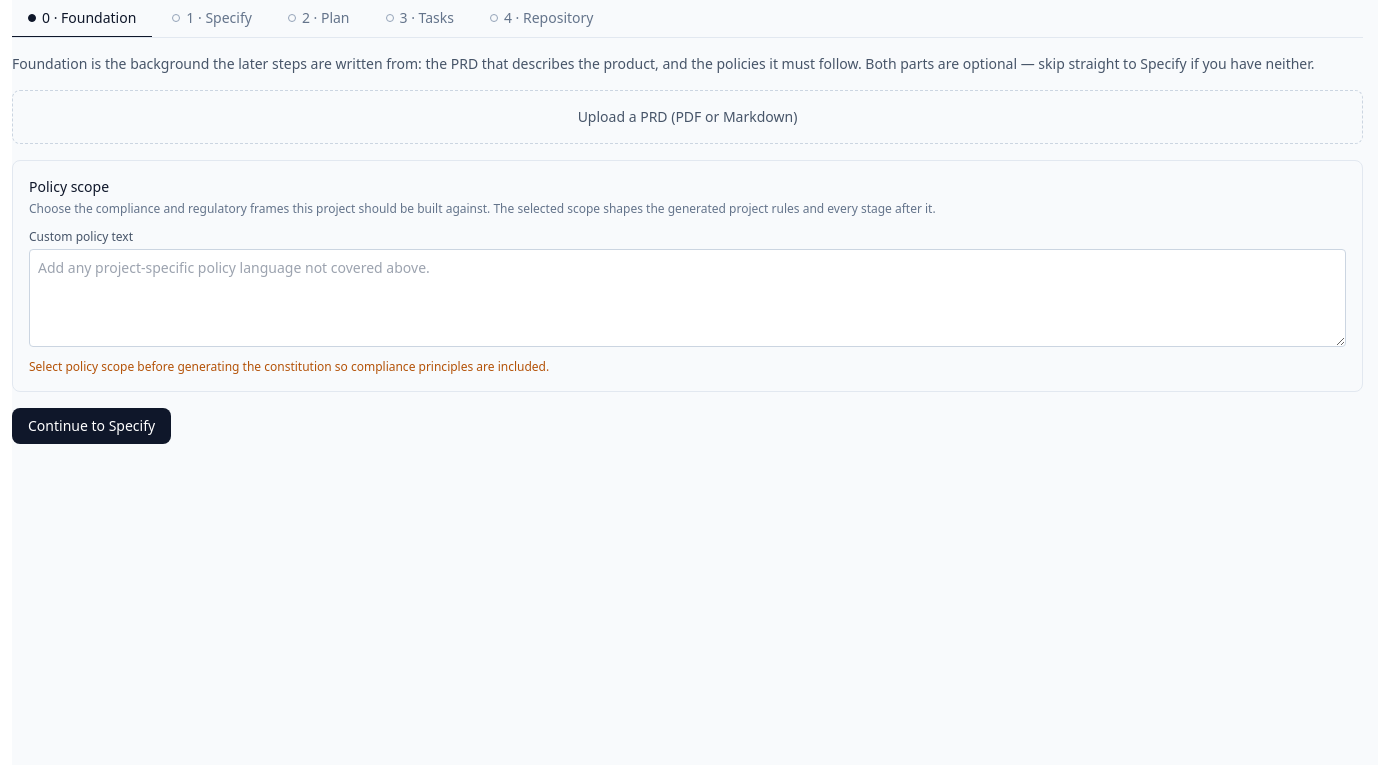
Test: Planner › asks for the specification as a structured business form, not one free-text box
The image size is (1378, 765).
Click the tab "1 · Specify": (212, 19) [156, 0, 268, 38]
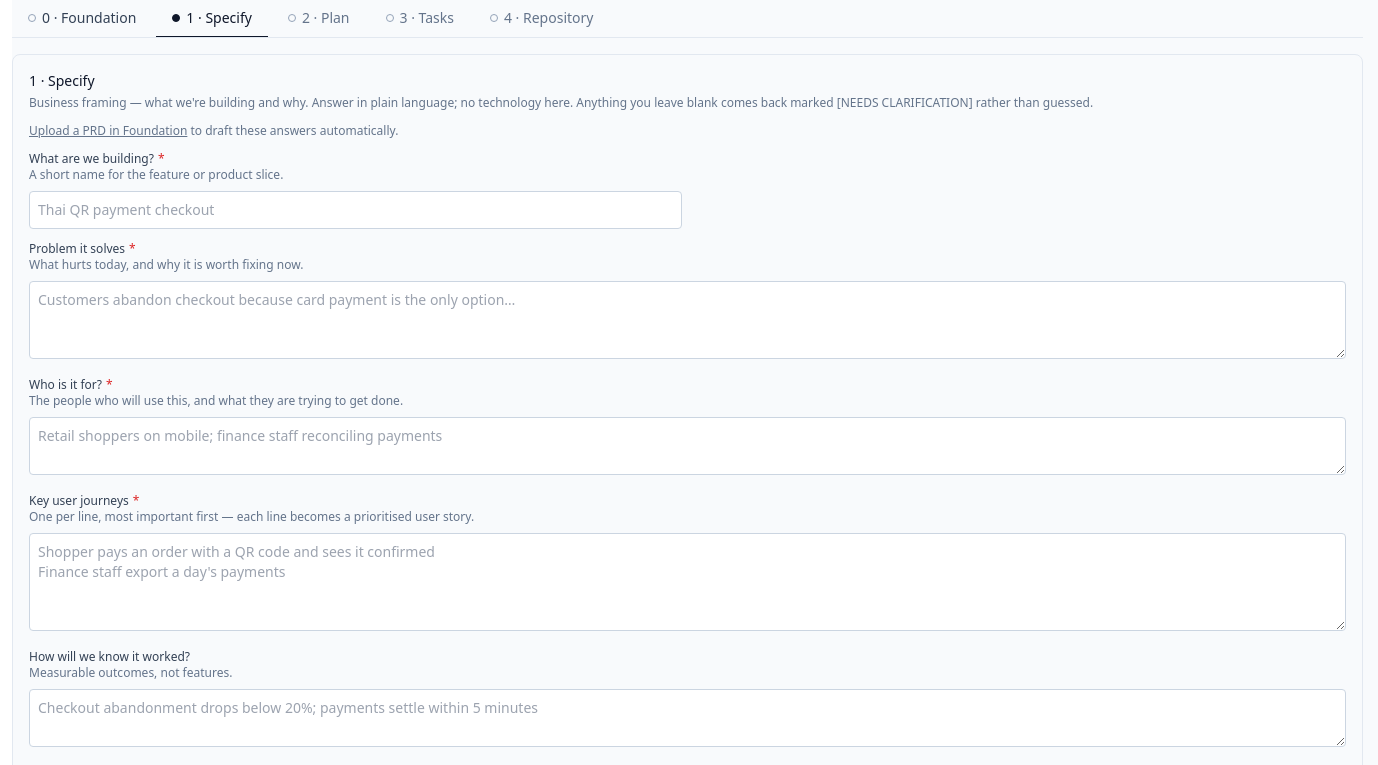
Expected: the field labelled "What are we building?*" is shown
Expected: the text box labelled "Key user journeys*" is shown, [29, 533, 1346, 631]
In the field labelled "What are we building?*": (355, 210) [29, 191, 682, 229], type "QR checkout"
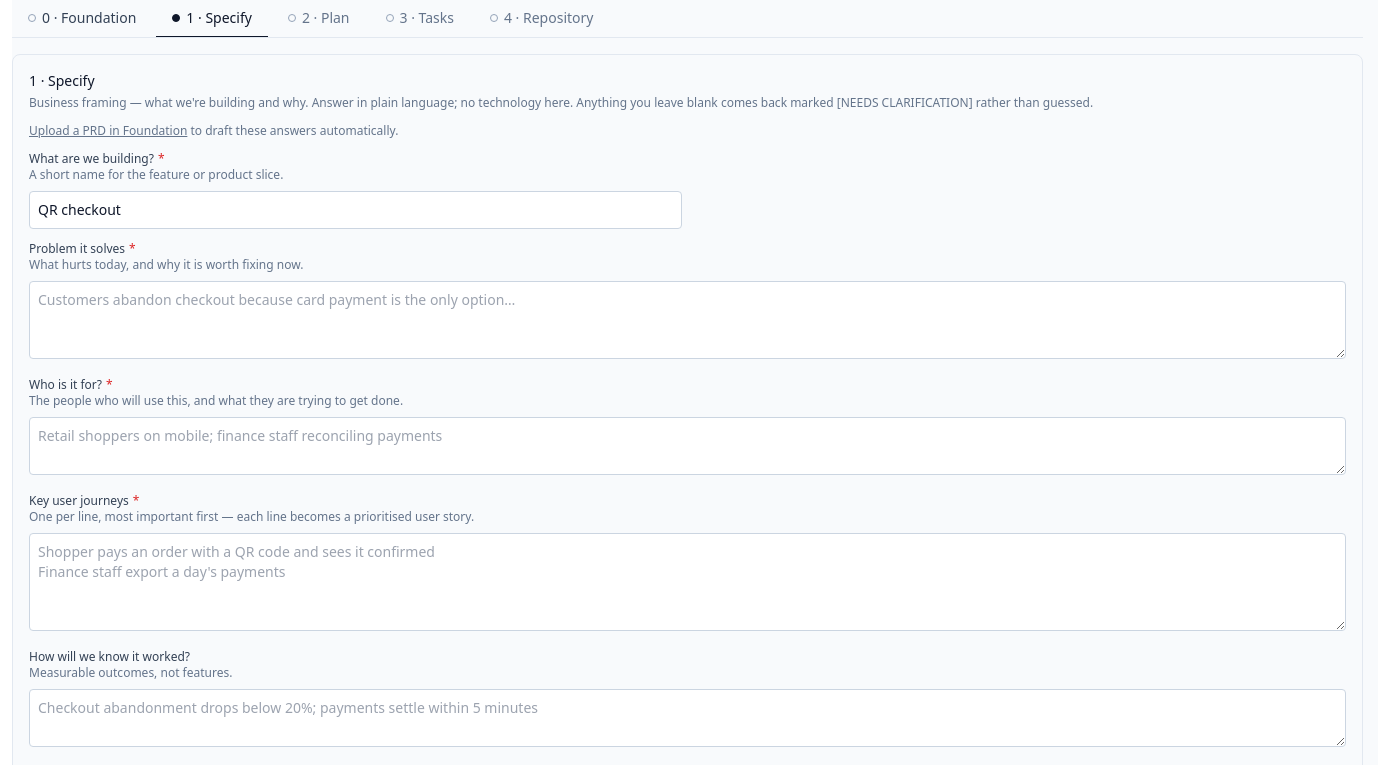
Replace the text in the text box labelled "Problem it solves*" with "x": (688, 320) [29, 281, 1346, 359]
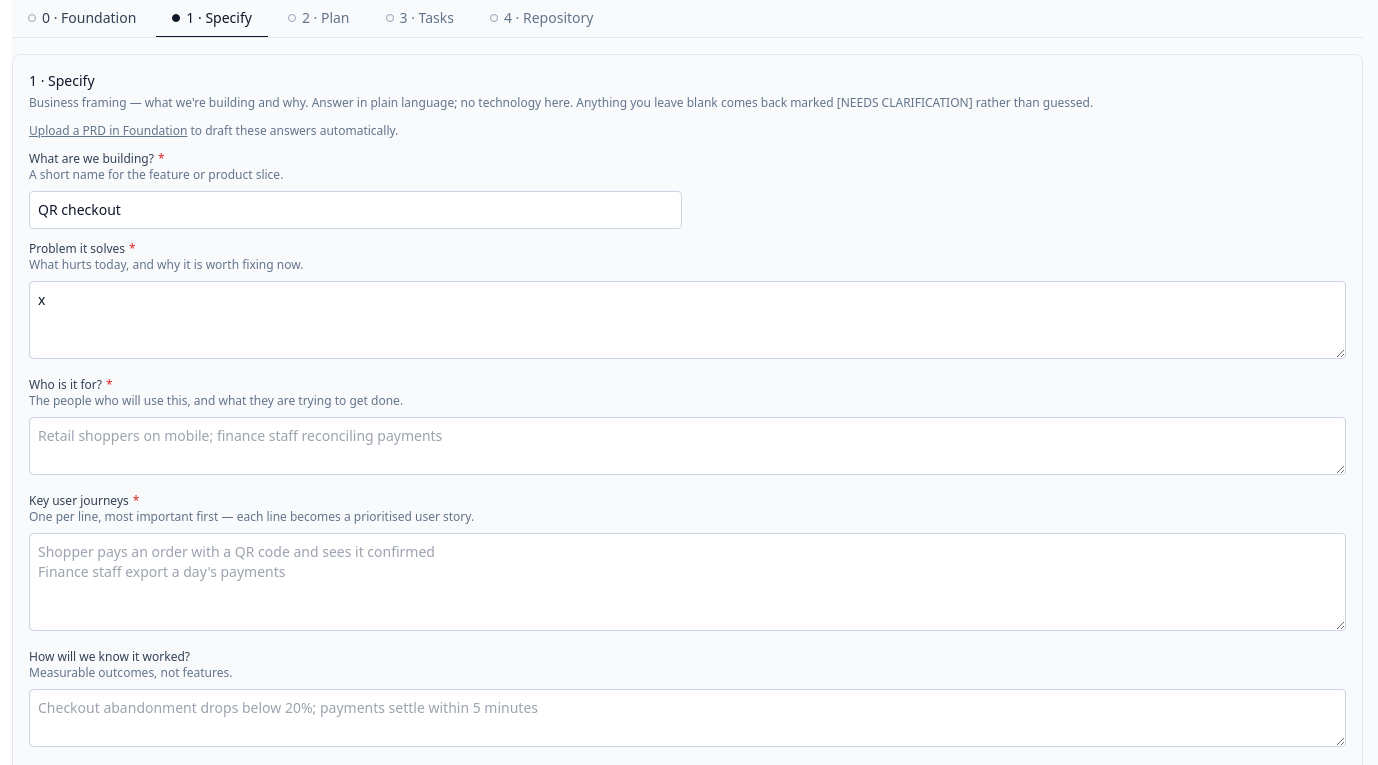
Replace the text in the text box labelled "Who is it for?*" with "y": (688, 446) [29, 417, 1346, 475]
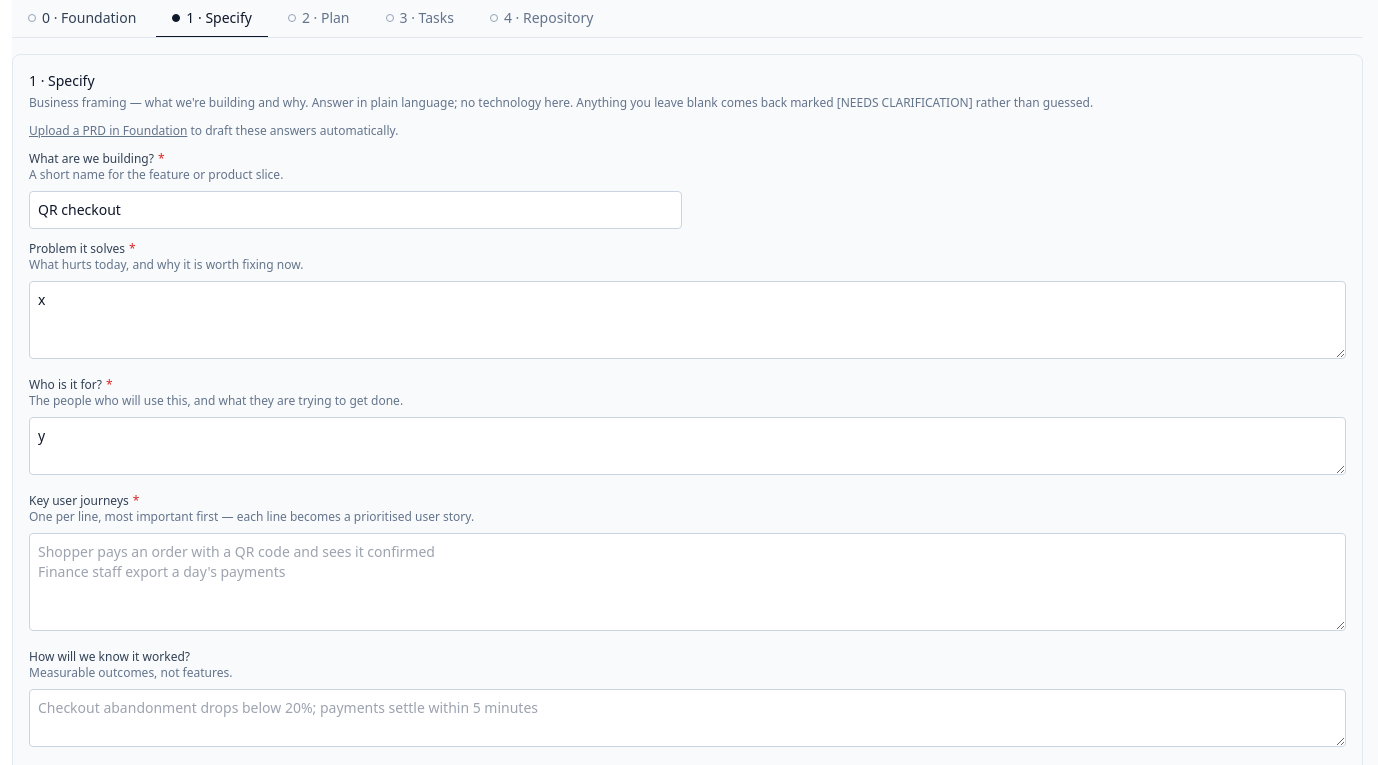
Replace the text in the text box labelled "Key user journeys*" with "z": (688, 582) [29, 533, 1346, 631]
(page scrolled)
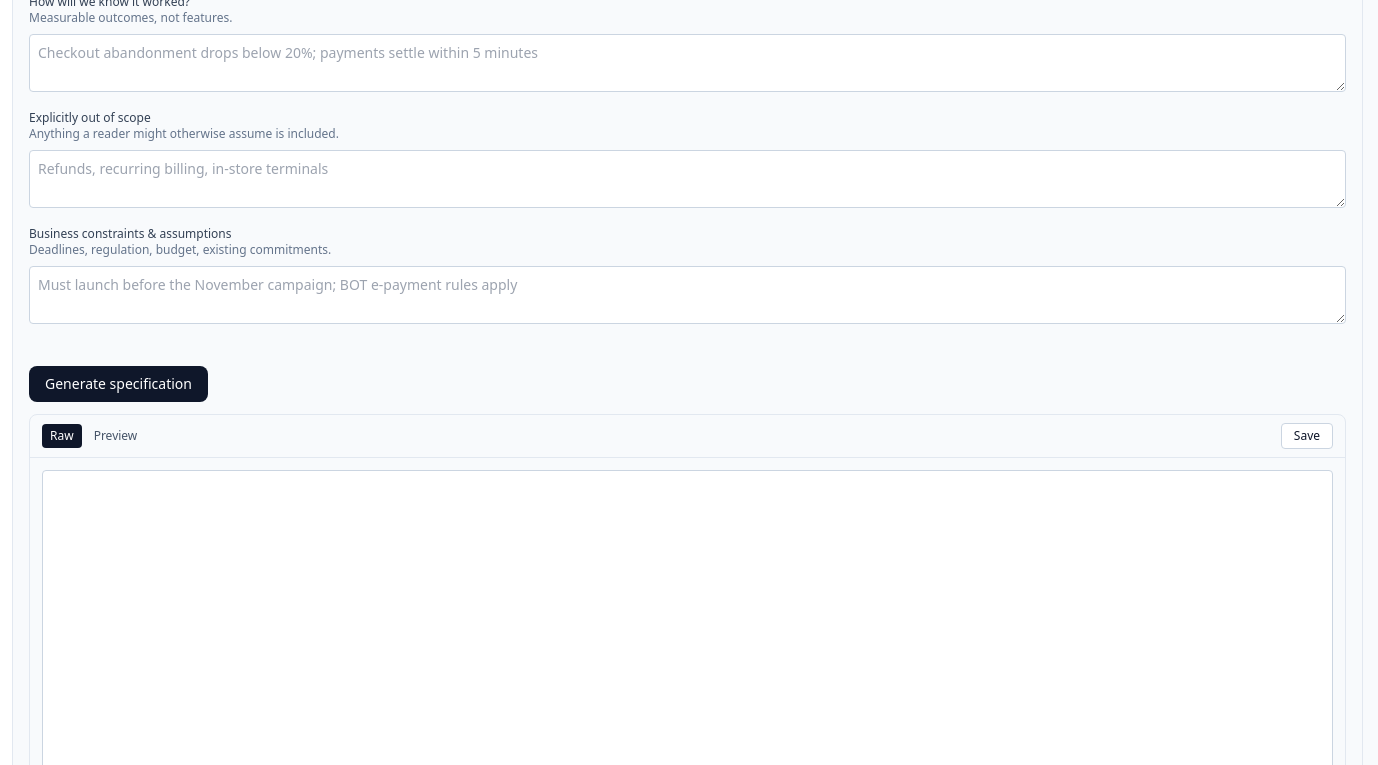
Expected: the button "Generate specification" is enabled, [29, 366, 208, 402]
